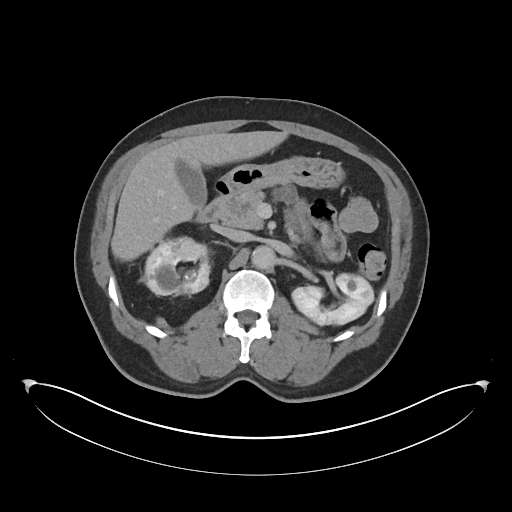Lesion: (180, 270, 199, 282)
